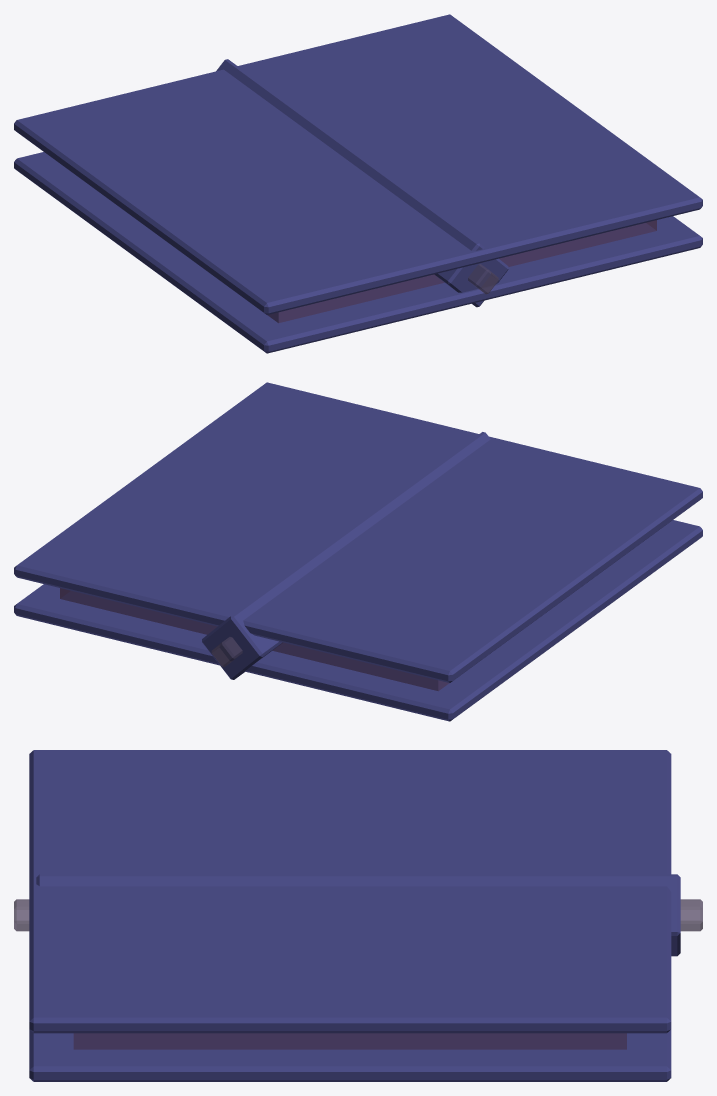
File: swing.fbx
3 views of the same model, one above another, from view 1: azimuth 30°, elevation 25°; view 2: azimuth 150°, elevation 25°; view 3: azimuth 270°, elevation 25° (orthographic). The views are drawn at different scales.
Visible parts, largest first — view 1: swing; view 2: swing; view 3: swing.
Boxes of the visible parts, bbox=[...] form: swing: bbox=[14, 14, 702, 353]; swing: bbox=[14, 382, 702, 721]; swing: bbox=[14, 750, 702, 1081].
Size of the model in its own units: 365 by 50.36 by 392.
